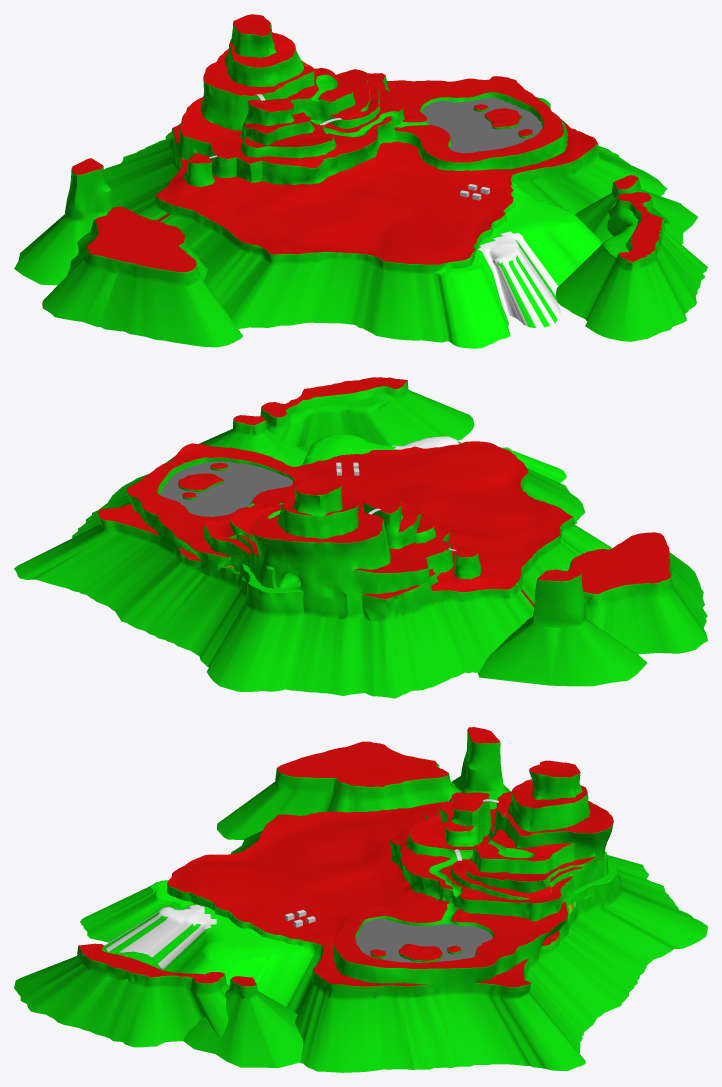
File: world.fbx
3 views of the same model, one above another, from view 1: azimuth 30°, elevation 25°; view 2: azimuth 150°, elevation 25°; view 3: azimuth 270°, elevation 25° (orthographic). The views are drawn at different scales.
Visible parts, largest first — view 1: Ground, Island 2, Island 1, Lake Water; view 2: Ground, Island 2, Island 1, Lake Water; view 3: Ground, Island 1, Island 2, Lake Water.
Part boxes in pixels (x1=…): Ground: x1=104, y1=14, x2=666, y2=348; Island 2: x1=14, y1=158, x2=242, y2=347; Island 1: x1=556, y1=175, x2=707, y2=341; Lake Water: x1=422, y1=97, x2=542, y2=153; Ground: x1=14, y1=433, x2=612, y2=698; Island 2: x1=478, y1=532, x2=707, y2=686; Island 1: x1=165, y1=377, x2=474, y2=466; Lake Water: x1=160, y1=461, x2=292, y2=516; Ground: x1=80, y1=760, x2=707, y2=1072; Island 1: x1=14, y1=943, x2=303, y2=1068; Island 2: x1=217, y1=727, x2=510, y2=839; Lake Water: x1=356, y1=918, x2=492, y2=962.
Bounding box in the file's own units: 46.06 × 11.35 × 45.72.
